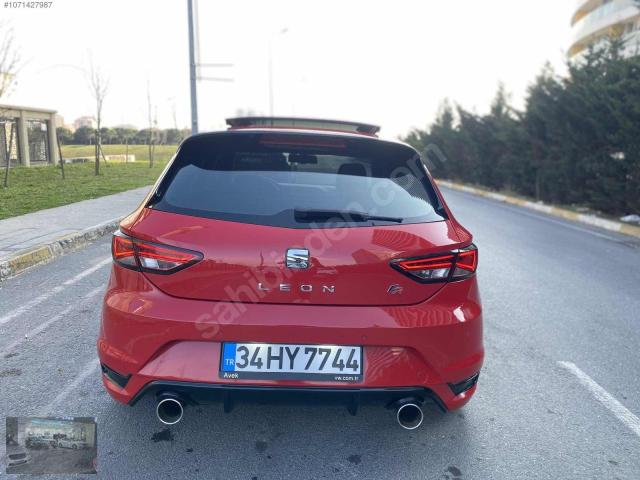plaka: (219, 342, 363, 382)
